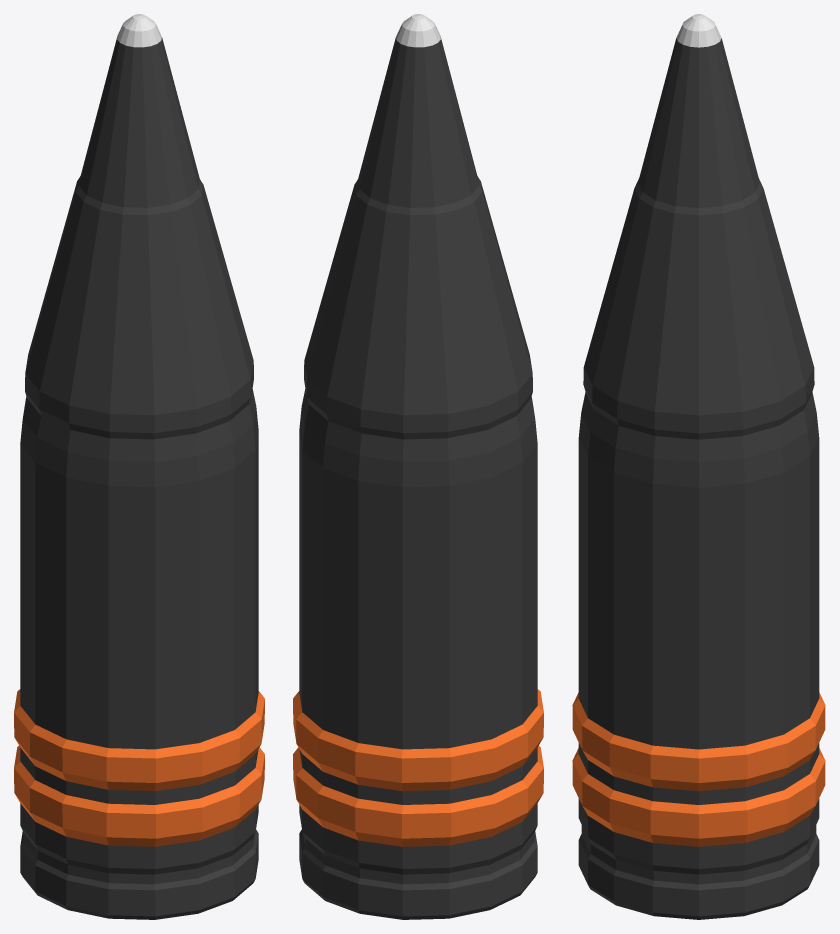
File: PzGr39_75_L48.glb
3 renders of one model, left to right at view 1: azimuth 30°, elevation 25°; view 2: azimuth 150°, elevation 25°; view 3: azimuth 270°, elevation 25°, orthographic.
Visible parts, largest first — view 1: PzGr39_75_L48; view 2: PzGr39_75_L48; view 3: PzGr39_75_L48.
Part boxes in pixels (left/top/right/bottom): PzGr39_75_L48: left=14, top=14, right=264, bottom=919; PzGr39_75_L48: left=293, top=14, right=543, bottom=919; PzGr39_75_L48: left=572, top=14, right=825, bottom=919.
Size of the model in its own units: 0.0744 by 0.278 by 0.0744.
